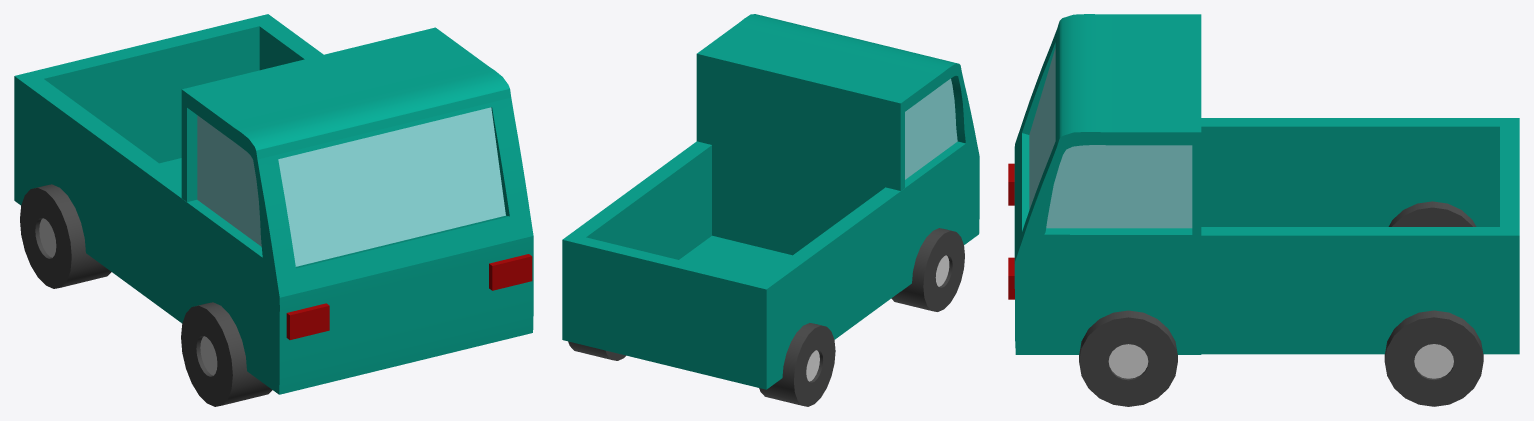
File: Car3.fbx
3 views of the same model, side by side, from view 1: azimuth 30°, elevation 25°; view 2: azimuth 150°, elevation 25°; view 3: azimuth 270°, elevation 25° (orthographic). The views are drawn at different scales.
Visible parts, largest first — view 1: group4_pasted__pCylinder2; view 2: group4_pasted__pCylinder2; view 3: group4_pasted__pCylinder2.
Boxes of the visible parts, x1,y1,x2,y2 form: group4_pasted__pCylinder2: (14, 14, 533, 406); group4_pasted__pCylinder2: (562, 14, 979, 406); group4_pasted__pCylinder2: (1008, 14, 1519, 406).
Bounding box in the file's own units: 0.8181 × 0.7779 × 1.34.
